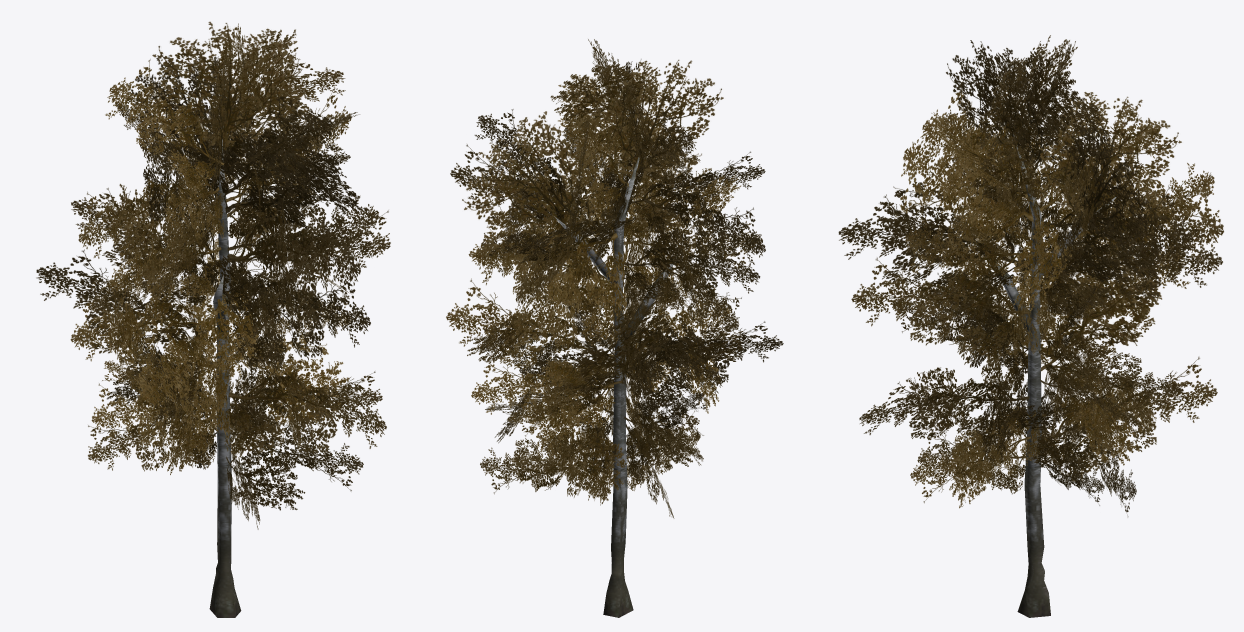
File: tree_04.glb
3 renders of one model, left to right at view 1: azimuth 30°, elevation 25°; view 2: azimuth 150°, elevation 25°; view 3: azimuth 270°, elevation 25°, orthographic. The views are drawn at different scales.
Visible parts, largest first — view 1: Tree_Branches_02_Tree_Branches_02_0.001, Tree_Trunk_02_Tree_Trunk_02_0.001; view 2: Tree_Branches_02_Tree_Branches_02_0.001, Tree_Trunk_02_Tree_Trunk_02_0.001; view 3: Tree_Branches_02_Tree_Branches_02_0.001, Tree_Trunk_02_Tree_Trunk_02_0.001.
Boxes of the visible parts, x1,y1,x2,y2 form: Tree_Branches_02_Tree_Branches_02_0.001: [36, 21, 390, 529]; Tree_Trunk_02_Tree_Trunk_02_0.001: [209, 139, 241, 617]; Tree_Branches_02_Tree_Branches_02_0.001: [446, 39, 783, 518]; Tree_Trunk_02_Tree_Trunk_02_0.001: [554, 157, 682, 617]; Tree_Branches_02_Tree_Branches_02_0.001: [838, 35, 1223, 516]; Tree_Trunk_02_Tree_Trunk_02_0.001: [976, 134, 1116, 617].
Size of the model in its own units: 6.62 by 11.87 by 7.66.
Materials: 2 (2 with a texture image).
